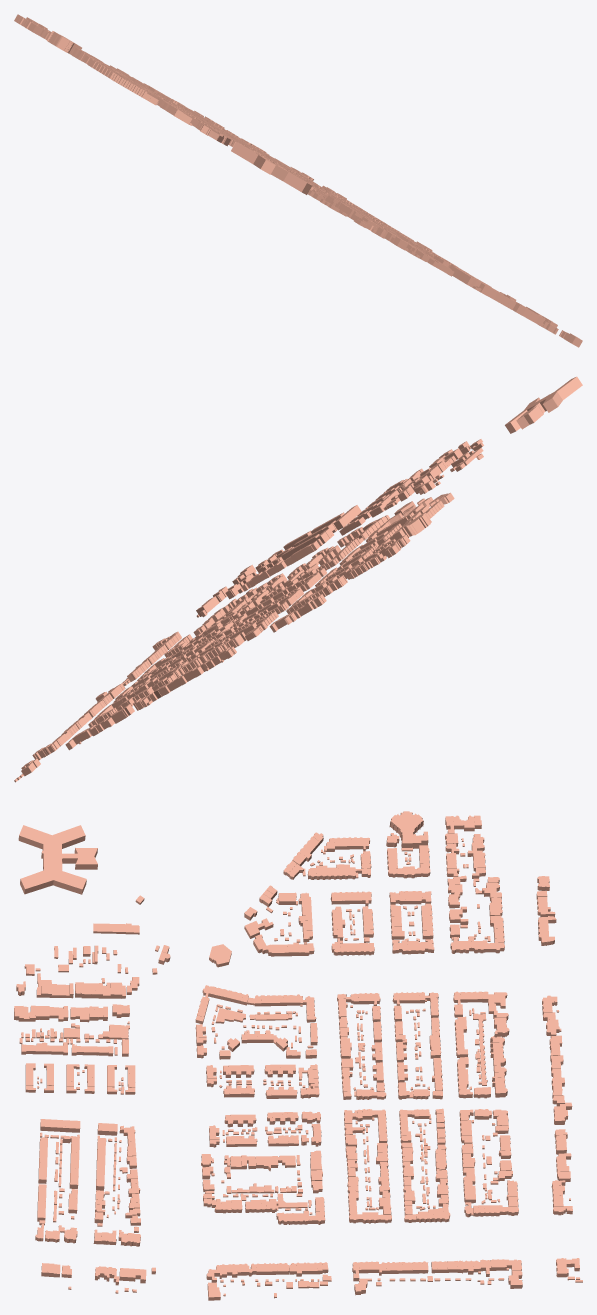
3 renders of one model, top to bottom at view 1: azimuth 30°, elevation 25°; view 2: azimuth 150°, elevation 25°; view 3: azimuth 270°, elevation 25°, orthographic. The views are drawn at different scales.
Bounding box in the file's own units: 496 × 373 × 629.
